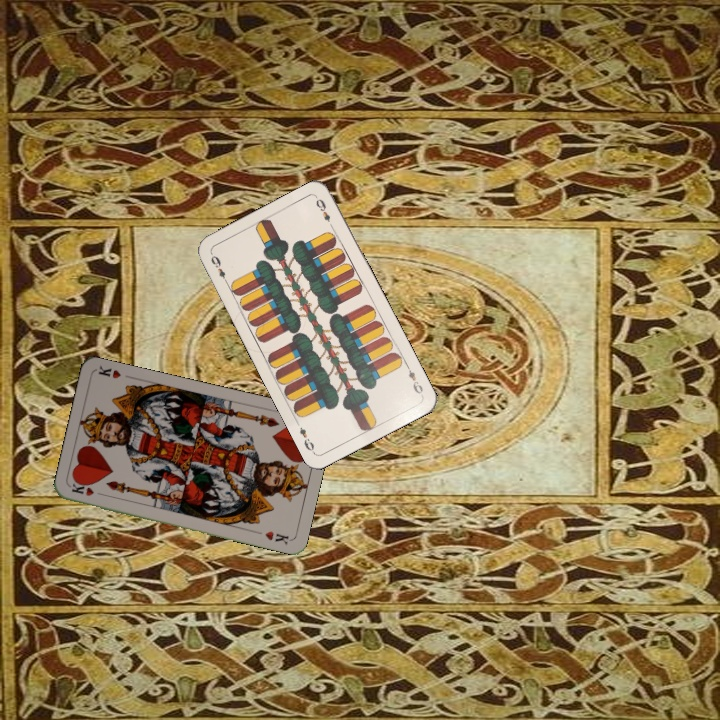E9: (402, 360, 425, 398), (207, 251, 231, 287)
HK: (67, 480, 108, 499)
